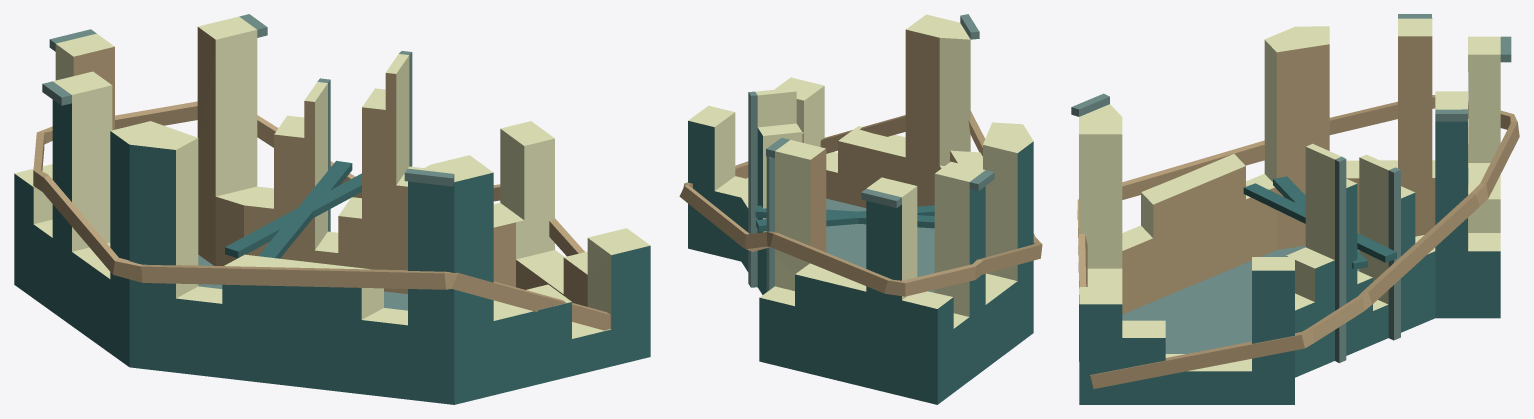
File: ModuloEsquinaRoto.fbx
The picture shows the model from 3 angles, left to right: view 1: azimuth 30°, elevation 25°; view 2: azimuth 150°, elevation 25°; view 3: azimuth 270°, elevation 25°; orthographic projection. The views are drawn at different scales.
Parts seen in each view (by area): view 1: Cube.130, Cube.134, Cube.133, Cube.131; view 2: Cube.130, Cube.134, Cube.131, Cube.133; view 3: Cube.130, Cube.134, Cube.133, Cube.131.
Boxes of the visible parts, x1,y1,x2,y2 form: Cube.130: (14, 14, 650, 404); Cube.134: (33, 101, 610, 330); Cube.133: (258, 160, 352, 258); Cube.131: (225, 173, 361, 258); Cube.130: (688, 14, 1033, 404); Cube.134: (679, 111, 1042, 296); Cube.131: (755, 205, 934, 228); Cube.133: (756, 205, 934, 231); Cube.130: (1071, 14, 1511, 404); Cube.134: (1077, 95, 1519, 388); Cube.133: (1243, 183, 1396, 262); Cube.131: (1273, 176, 1367, 269).
Size of the model in its own units: 403 by 213 by 415.
